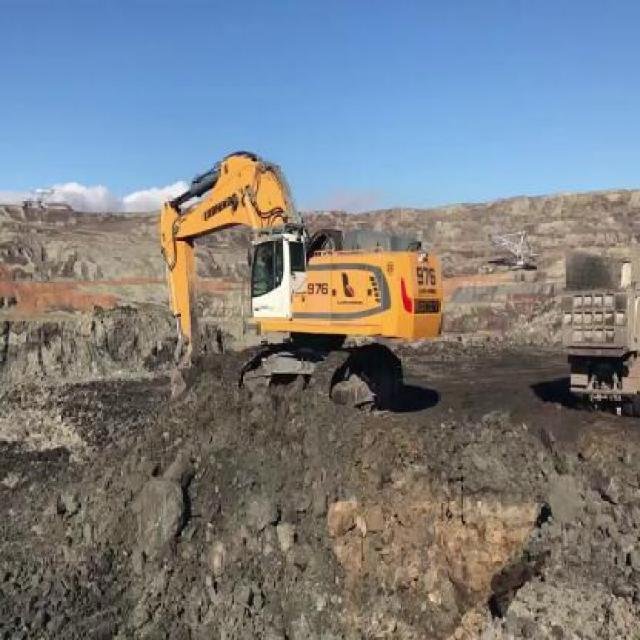Dump Truck: (562, 241, 638, 419)
Excavator: (157, 147, 445, 415)
